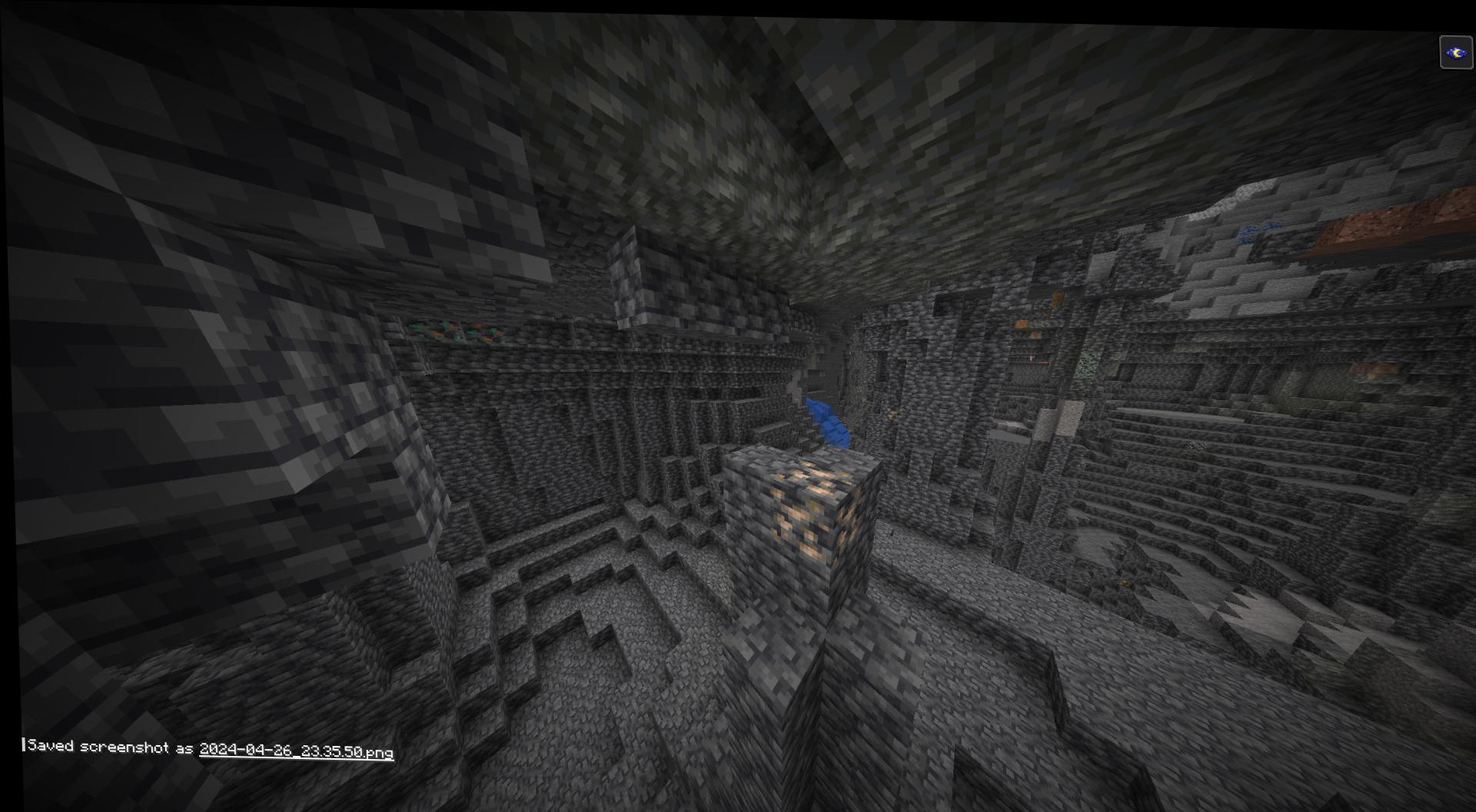iron ore: (763, 482, 828, 561), (776, 453, 850, 496), (820, 487, 864, 550), (878, 396, 900, 420)
